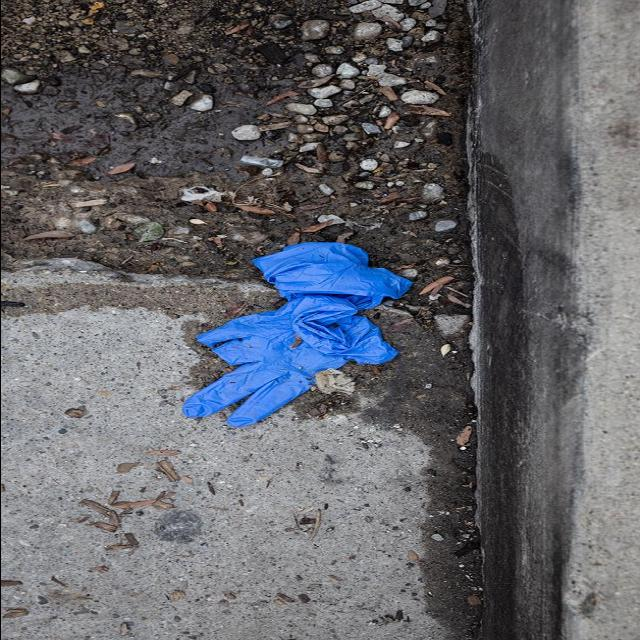b3: (165, 220, 423, 431)
